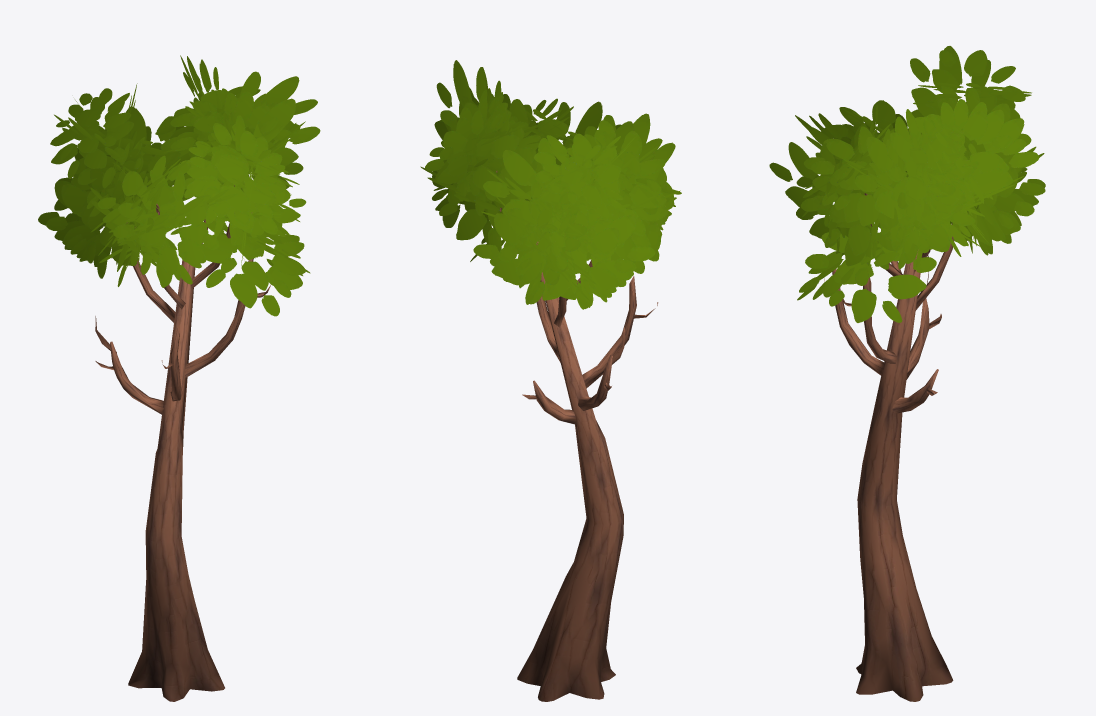
File: tree_free_model_b_lo.glb
3 renders of one model, left to right at view 1: azimuth 30°, elevation 25°; view 2: azimuth 150°, elevation 25°; view 3: azimuth 270°, elevation 25°, orthographic. The views are drawn at different scales.
Parts seen in each view (by area): view 1: CommonTree_4; view 2: CommonTree_4; view 3: CommonTree_4.
Boxes of the visible parts, x1,y1,x2,y2 form: CommonTree_4: [38, 55, 320, 701]; CommonTree_4: [420, 60, 681, 701]; CommonTree_4: [769, 46, 1045, 701].
Bounding box in the file's own units: 4.89 × 10 × 4.67.
Materials: 2 (2 with a texture image).
